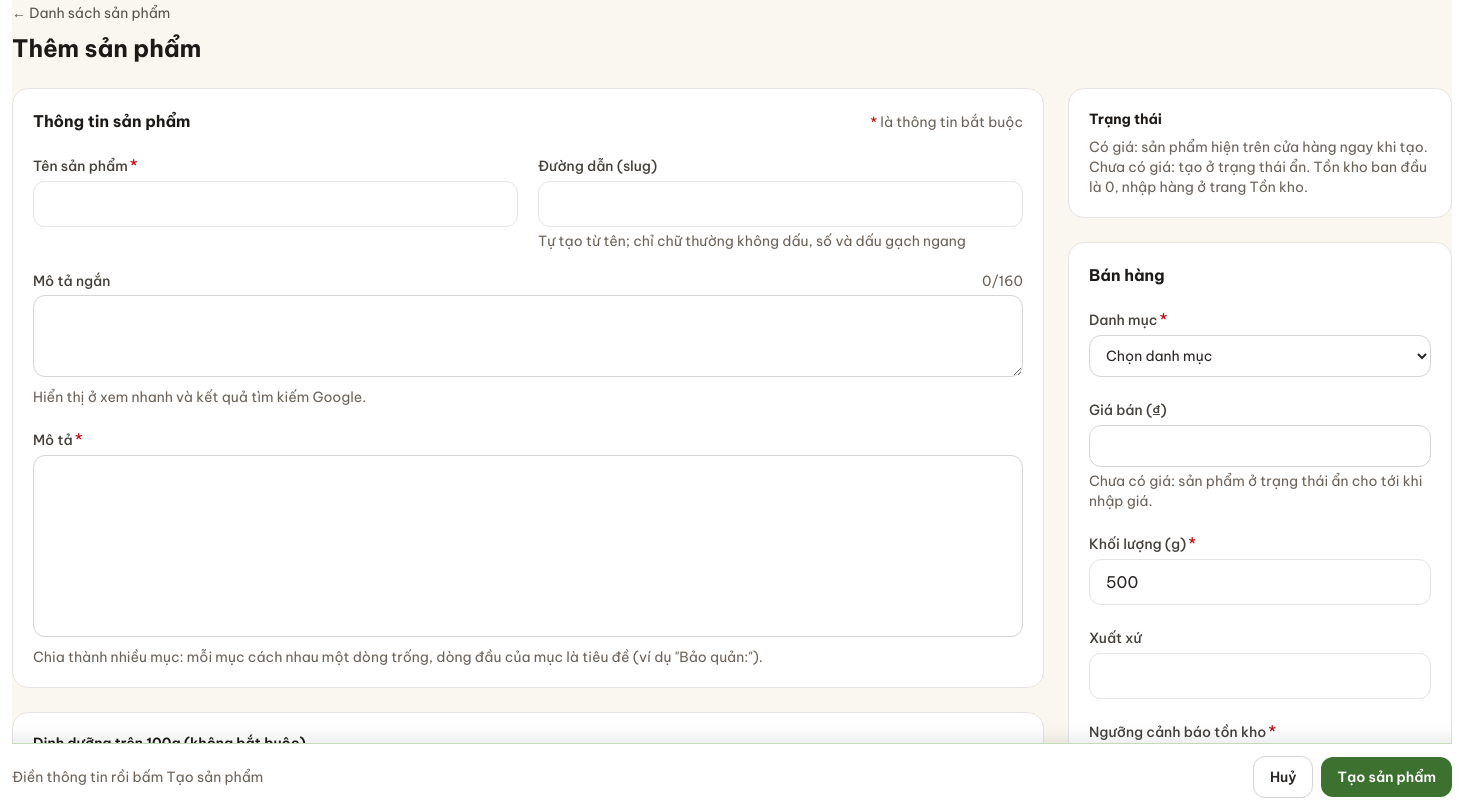
Scenario: short description field › sits above the full description, counts characters and stops at 160
The width and height of the screenshot is (1464, 810).
Check: the text "0/160" is shown, box x1=982 y1=271 x2=1023 y2=291
Check: the text with id "shortDescription-help" reads "Hiển thị ở xem nhanh và kết quả tìm kiếm Google.", box x1=33 y1=388 x2=366 y2=406
Step 1. Type "Hạt điều giòn" into the text box labelled "Mô tả ngắn" → {"x": 528, "y": 336}, box x1=33 y1=295 x2=1023 y2=377
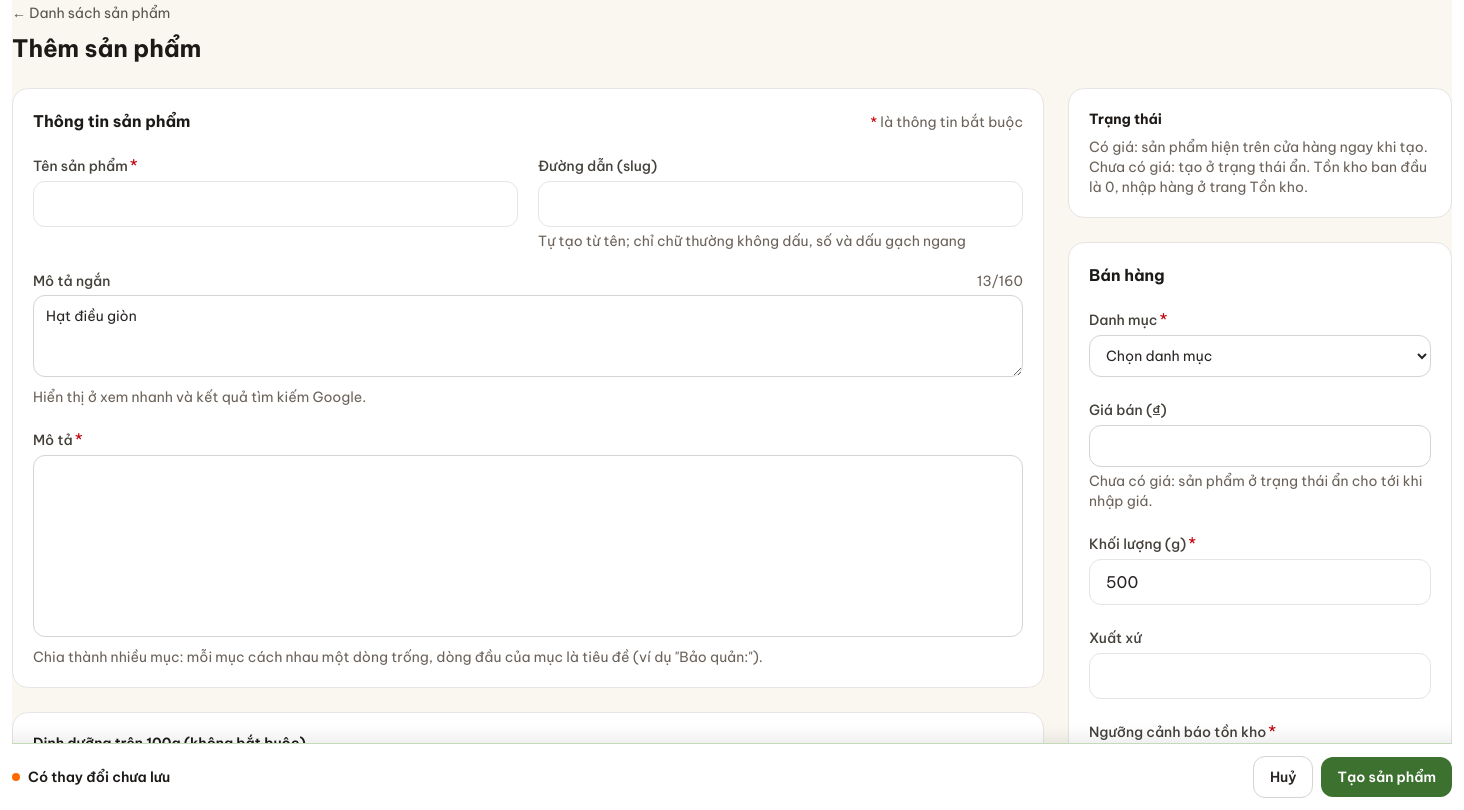
Check: the text "13/160" is shown, box x1=977 y1=271 x2=1023 y2=291
